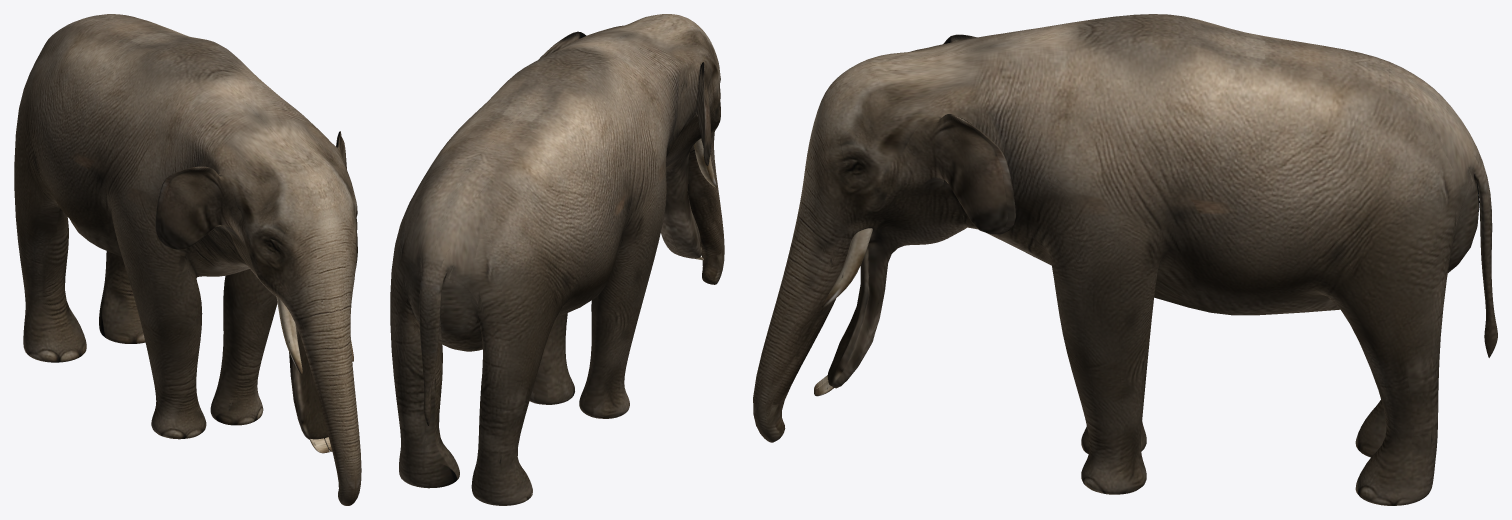
The model's file is 03_Protanancus.fbx.
3 views of the same model, side by side, from view 1: azimuth 30°, elevation 25°; view 2: azimuth 150°, elevation 25°; view 3: azimuth 270°, elevation 25° (orthographic). The views are drawn at different scales.
Visible parts, largest first — view 1: Cube, Cube.001; view 2: Cube, Cube.001; view 3: Cube, Cube.001.
Boxes of the visible parts, box(x1,y1,x2,y2) form: Cube: box(14, 14, 361, 505); Cube.001: box(276, 296, 353, 374); Cube: box(390, 14, 724, 505); Cube.001: box(694, 138, 717, 187); Cube: box(753, 14, 1497, 505); Cube.001: box(821, 228, 872, 307).
Bounding box in the file's own units: 454 × 847 × 1291.
Materials: 1 (1 with a texture image).
